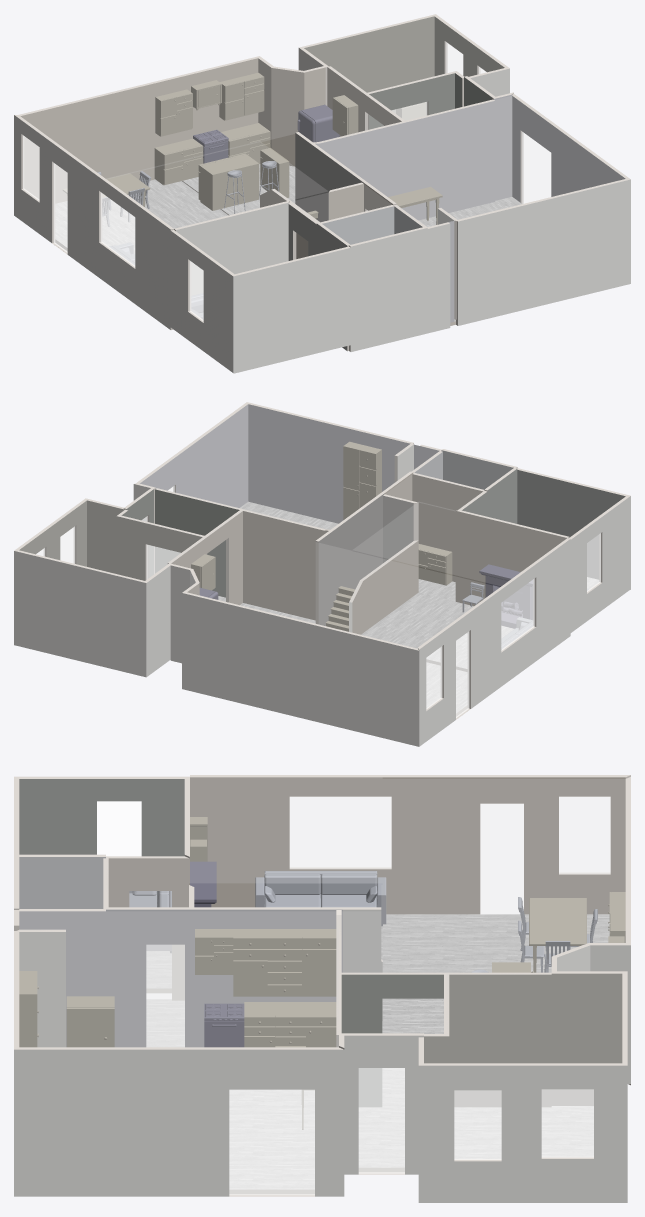
3 views of the same model, one above another, from view 1: azimuth 30°, elevation 25°; view 2: azimuth 150°, elevation 25°; view 3: azimuth 270°, elevation 25° (orthographic). The views are drawn at different scales.
Visible parts, largest first — view 1: ceiling_Kitchen_3, wall_82, ceiling_Dining Room_0, wall_22, wall_134, wall_54, ceiling_Living Room_0, wall_142, wall_110, ceiling_Other_2, ceiling_Kitchen_2, wall_23 (+52 smaller); view 2: wall_122, ceiling_Kitchen_3, wall_126, ceiling_Dining Room_0, wall_134, wall_12, ceiling_Living Room_0, ceiling_Other_2, ceiling_Kitchen_2, wall_21, wall_20, wall_0 (+42 smaller); view 3: wall_114, ceiling_Kitchen_3, wall_25, ceiling_Dining Room_0, wall_130, ceiling_Living Room_0, ceiling_Other_2, ceiling_Kitchen_2, wall_3, wall_8, floor_Dining Room_0, door_1 (+57 smaller).
Boxes of the visible parts, x1=… form: ceiling_Kitchen_3: x1=345, y1=96, x2=624, y2=219; wall_82: x1=458, y1=179, x2=630, y2=325; ceiling_Dining Room_0: x1=21, y1=79, x2=258, y2=178; wall_22: x1=20, y1=58, x2=258, y2=203; wall_134: x1=14, y1=115, x2=170, y2=329; wall_54: x1=233, y1=248, x2=350, y2=373; ceiling_Living Room_0: x1=107, y1=141, x2=326, y2=227; wall_142: x1=405, y1=101, x2=494, y2=220; wall_110: x1=350, y1=228, x2=427, y2=351; ceiling_Other_2: x1=305, y1=17, x2=495, y2=92; ceiling_Kitchen_2: x1=175, y1=59, x2=358, y2=141; wall_23: x1=304, y1=16, x2=434, y2=113; wall_122: x1=182, y1=593, x2=419, y2=746; ceiling_Kitchen_3: x1=140, y1=405, x2=408, y2=523; wall_126: x1=14, y1=551, x2=146, y2=677; ceiling_Dining Room_0: x1=270, y1=552, x2=499, y2=647; wall_134: x1=419, y1=539, x2=570, y2=746; wall_12: x1=248, y1=404, x2=410, y2=523; ceiling_Living Room_0: x1=353, y1=502, x2=566, y2=585; ceiling_Other_2: x1=20, y1=507, x2=201, y2=580; ceiling_Kitchen_2: x1=188, y1=521, x2=351, y2=611; wall_21: x1=243, y1=511, x2=328, y2=620; wall_20: x1=140, y1=404, x2=248, y2=507; wall_0: x1=455, y1=511, x2=566, y2=605; wall_114: x1=14, y1=1049, x2=344, y2=1196; ceiling_Kitchen_3: x1=20, y1=931, x2=338, y2=1046; wall_25: x1=190, y1=777, x2=625, y2=914; ceiling_Dining Room_0: x1=383, y1=779, x2=624, y2=884; wall_130: x1=418, y1=1065, x2=627, y2=1202; ceiling_Living Room_0: x1=189, y1=778, x2=381, y2=882; ceiling_Other_2: x1=447, y1=974, x2=621, y2=1062; ceiling_Kitchen_2: x1=339, y1=885, x2=624, y2=942; wall_3: x1=19, y1=779, x2=184, y2=856; wall_8: x1=449, y1=974, x2=551, y2=1106; floor_Dining Room_0: x1=382, y1=914, x2=609, y2=1018; door_1: x1=229, y1=1090, x2=314, y2=1194.
Size of the model in its own units: 12.93 by 3.1 by 11.67.
121 materials, 10 textured.
